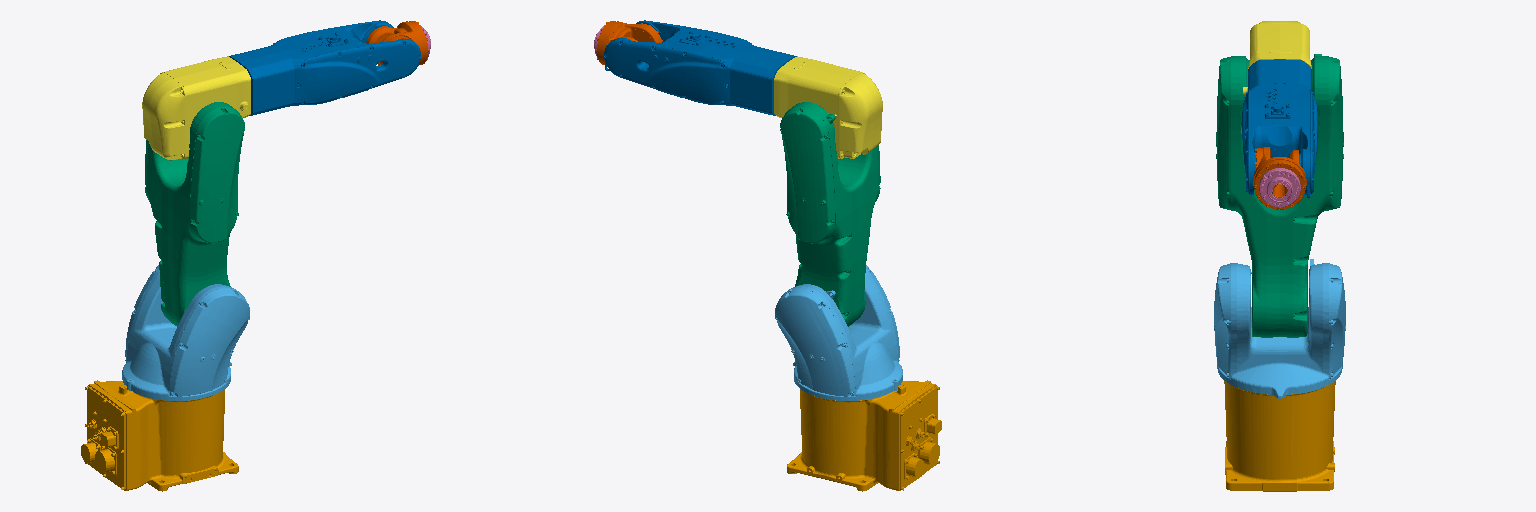
URDF robot description (mz07L):
<?xml version="1.0" encoding="utf-8"?>

<robot name="mz07L">
  <link name="base_link">
    <visual>
      <geometry>
        <mesh filename="package://mz07l_description/meshes/mz07_base_link.STL" />
      </geometry>
    </visual>
    <collision>
      <geometry>
        <mesh filename="package://mz07l_description/meshes/mz07_base_link.STL" />
      </geometry>
    </collision>
  </link>
  <link name="link1">
    <visual>
      <geometry>
        <mesh filename="package://mz07l_description/meshes/mz07_link1.STL" />
      </geometry>
    </visual>
    <collision>
      <geometry>
        <mesh filename="package://mz07l_description/meshes/mz07_link1.STL" />
      </geometry>
    </collision>
  </link>
  <joint name="joint_base_to_link1" type="revolute">
    <origin xyz="0 0 0.195" rpy="0 0 0" />
    <parent link="base_link" />
    <child link="link1" />
    <axis xyz="0 0 1" />
    <limit effort="100" lower="-2.9670" upper="2.9670" velocity="5.2359" />
  </joint>
  <link name="link2">
    <visual>
      <geometry>
        <mesh filename="package://mz07l_description/meshes/mz07_link2.STL" />
      </geometry>
    </visual>
    <collision>
      <geometry>
        <mesh filename="package://mz07l_description/meshes/mz07_link2.STL" />
      </geometry>
    </collision>
  </link>
  <joint name="joint_link1_to_link2" type="revolute">
    <origin xyz="0.05 0 0.15" rpy="0 0 0" />
    <parent link="link1" />
    <child link="link2" />
    <axis xyz="0 -1 0" />
    <limit effort="100" lower="-2.3561" upper="1.3962" velocity="4.8869" />
  </joint>
  <link name="link3">
    <visual>
      <geometry>
        <mesh filename="package://mz07l_description/meshes/mz07_link3.STL" />
      </geometry>
    </visual>
    <collision>
      <geometry>
        <mesh filename="package://mz07l_description/meshes/mz07_link3.STL" />
      </geometry>
    </collision>
  </link>
  <joint name="joint_link2_to_link3" type="revolute">
    <origin xyz="0 0 0.410" rpy="0 0 0" />
    <parent link="link2" />
    <child link="link3" />
    <axis xyz="0 1 0" />
    <limit effort="100" lower="-2.373648" upper="4.712389" velocity="6.283185" />
  </joint>
  <link name="link4">
    <visual>
      <geometry>
        <mesh filename="package://mz07l_description/meshes/mz07_link4.STL" />
      </geometry>
    </visual>
    <collision>
      <geometry>
        <mesh filename="package://mz07l_description/meshes/mz07_link4.STL" />
      </geometry>
    </collision>
  </link>
  <joint name="joint_link3_to_link4" type="revolute">
    <origin xyz="0.09 0 0.045" rpy="0 0 0" />
    <parent link="link3" />
    <child link="link4" />
    <axis xyz="1 0 0" />
    <limit effort="100" lower="-3.316126" upper="3.316126" velocity="9.599311" />
  </joint>
  <link name="link5">
    <visual>
      <geometry>
        <mesh filename="package://mz07l_description/meshes/mz07_link5.STL" />
      </geometry>
    </visual>
    <collision>
      <geometry>
        <mesh filename="package://mz07l_description/meshes/mz07_link5.STL" />
      </geometry>
    </collision>
  </link>
  <joint name="joint_link4_to_link5" type="revolute">
    <origin xyz="0.350 0 0" rpy="0 0 0" />
    <parent link="link4" />
    <child link="link5" />
    <axis xyz="0 1 0" />
    <limit effort="100" lower="-2.0943" upper="2.0943" velocity="9.599311" />
  </joint>
  <link name="link6">
    <visual>
    <origin xyz="0 0 0" rpy="0 0 0" />
      <geometry>
        <mesh filename="package://mz07l_description/meshes/mz07_link6.STL" />
      </geometry>
    </visual>
    <collision>
      <geometry>
        <mesh filename="package://mz07l_description/meshes/mz07_link6.STL" />
      </geometry>
    </collision>
  </link>
  <joint name="joint_link5_to_link6" type="revolute">
    <origin xyz="0.073 0 0" rpy="0 1.570796 0" />
    <parent link="link5" />
    <child link="link6" />
    <axis xyz="0 0 1" />
    <limit effort="100" lower="-6.283185" upper="6.283185" velocity="17.453293" />
  </joint>
</robot>

--- Facts derived from the render (not from the file) ---
3 views of the same robot in one strip: view 1: azimuth 30°, elevation 25°; view 2: azimuth 150°, elevation 25°; view 3: azimuth 270°, elevation 25° (orthographic).
Model mz07L with 7 links and 6 joints (6 revolute), rooted at base_link, posed all joints at 0.
Visible links, largest first — view 1: link2, base_link, link1, link4, link3, link5; view 2: link2, base_link, link1, link4, link3, link5; view 3: link2, link1, base_link, link4, link3, link5, link6.
Boxes of the visible links, box(x1,y1,x2,y2) form: link2: box(145, 102, 244, 325); base_link: box(81, 380, 238, 491); link1: box(122, 265, 249, 400); link4: box(229, 20, 420, 115); link3: box(142, 56, 250, 160); link5: box(366, 21, 429, 65); link2: box(780, 102, 880, 326); base_link: box(787, 380, 941, 491); link1: box(775, 265, 902, 400); link4: box(604, 20, 796, 115); link3: box(774, 56, 882, 158); link5: box(596, 21, 662, 64); link2: box(1216, 54, 1343, 337); link1: box(1214, 259, 1345, 398); base_link: box(1224, 381, 1335, 491); link4: box(1242, 59, 1317, 197); link3: box(1243, 21, 1311, 94); link5: box(1253, 147, 1306, 209); link6: box(1259, 168, 1300, 206).
Bounding box of the posed robot: 0.7604 × 0.23 × 0.8609 m (x, y, z).
7 mesh visuals loaded from 7 distinct referenced files (7 binary STL).
